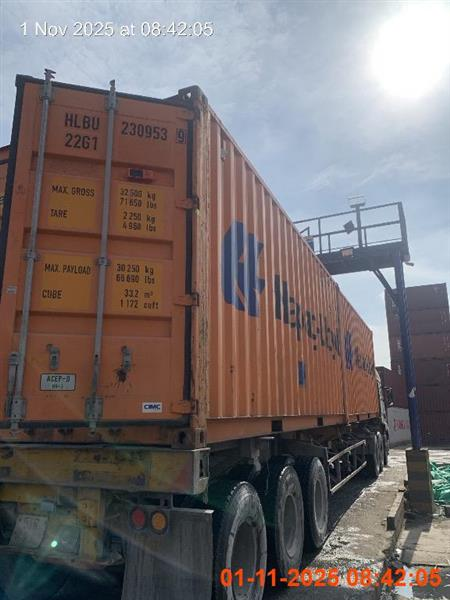broken: (1, 72, 395, 599)
